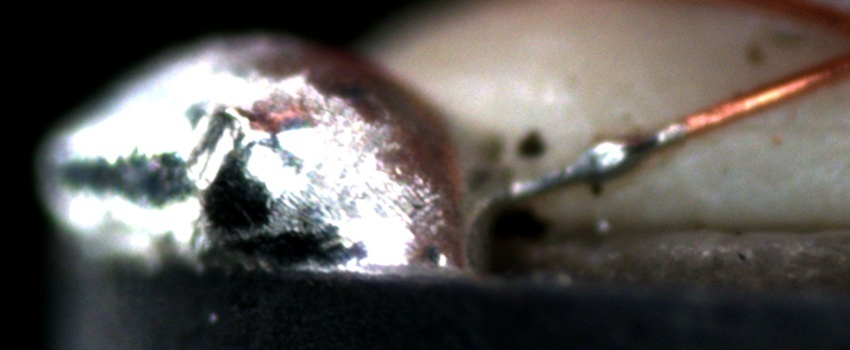DL: (710, 99, 849, 151)
TB: (575, 125, 655, 181)
TS: (511, 122, 688, 197)
TTCW: (474, 99, 733, 223)
